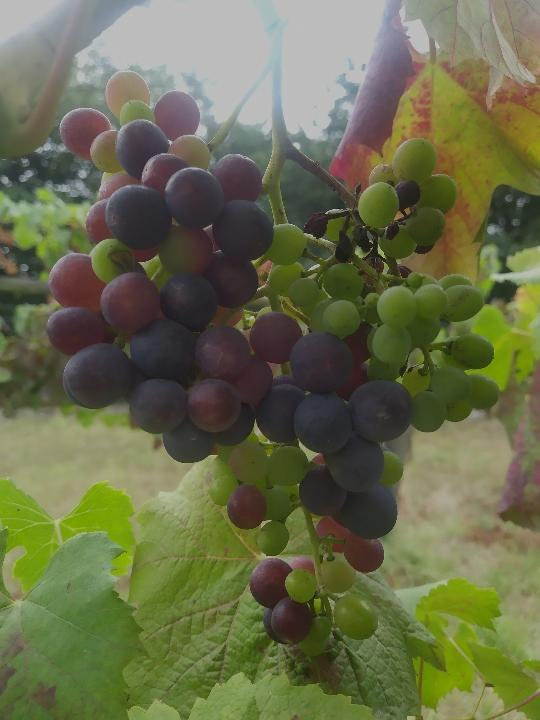grape: (43, 66, 504, 660)
